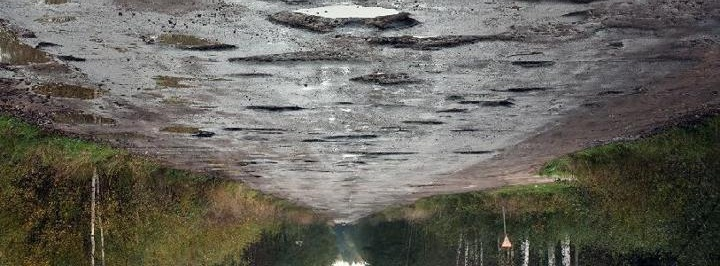pothole: (558, 0, 719, 34), (261, 4, 419, 36), (0, 17, 88, 72), (226, 51, 383, 67), (142, 28, 239, 53), (346, 73, 428, 87), (157, 125, 216, 139), (457, 95, 514, 108), (242, 104, 305, 114), (511, 56, 557, 69), (325, 131, 377, 142), (500, 83, 546, 94)
